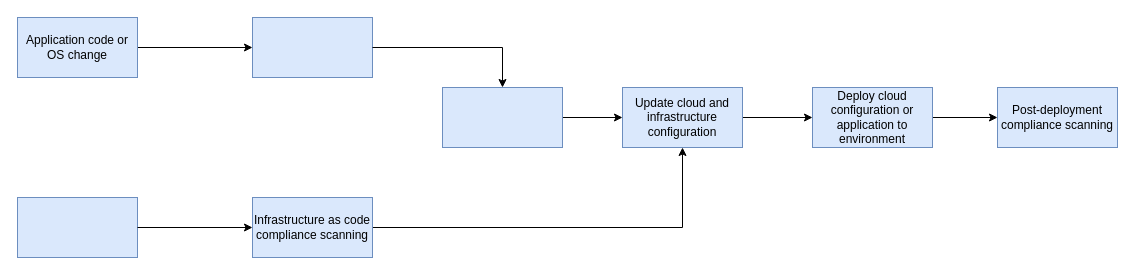
Image size: 1135x275. Some labels were removed from this diagram. The box of each missing label's shape, as (x1, y1, x2, y2) in pixels:
AMI or container image scanning: (442, 86, 562, 148)
Build application container or OS image: (252, 16, 372, 78)
Infrastructure code change: (16, 196, 138, 258)
